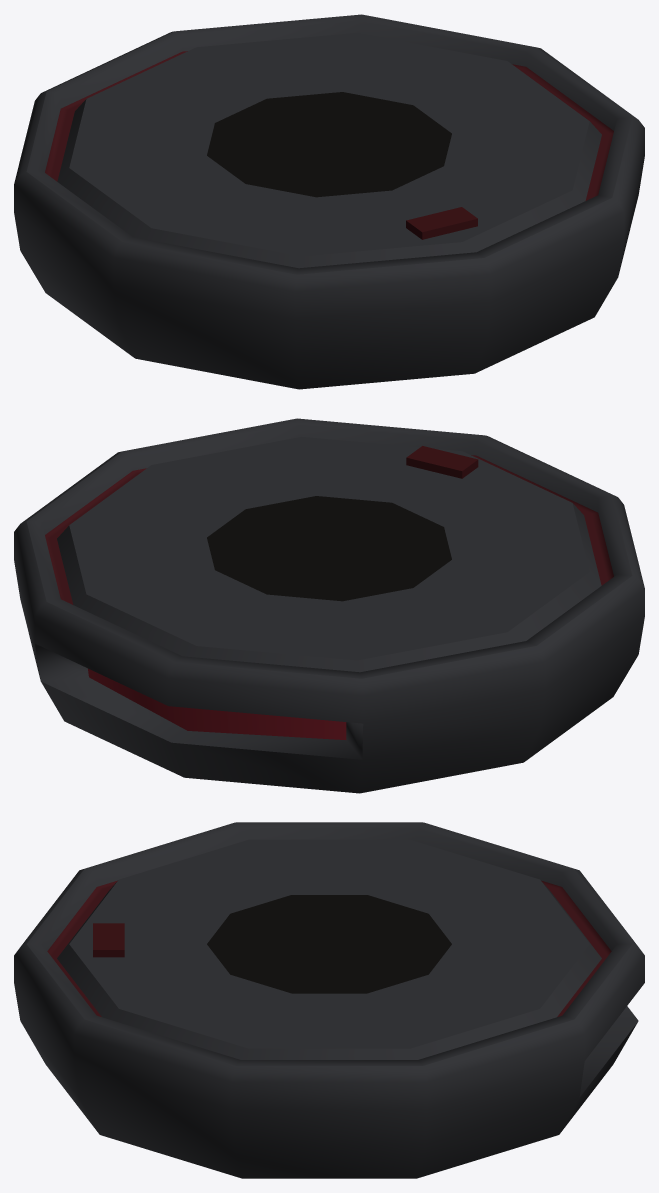
File: VacuumCleaner-Roomba_01.fbx
3 views of the same model, one above another, from view 1: azimuth 30°, elevation 25°; view 2: azimuth 150°, elevation 25°; view 3: azimuth 270°, elevation 25° (orthographic). The views are drawn at different scales.
Parts seen in each view (by area): view 1: VacuumCleaner_Roomba; view 2: VacuumCleaner_Roomba; view 3: VacuumCleaner_Roomba.
Boxes of the visible parts, left/top/right/bottom form: VacuumCleaner_Roomba: left=14, top=14, right=644, bottom=389; VacuumCleaner_Roomba: left=14, top=418, right=644, bottom=793; VacuumCleaner_Roomba: left=14, top=822, right=644, bottom=1178.
Bounding box in the file's own units: 0.3804 × 0.0893 × 0.4.
